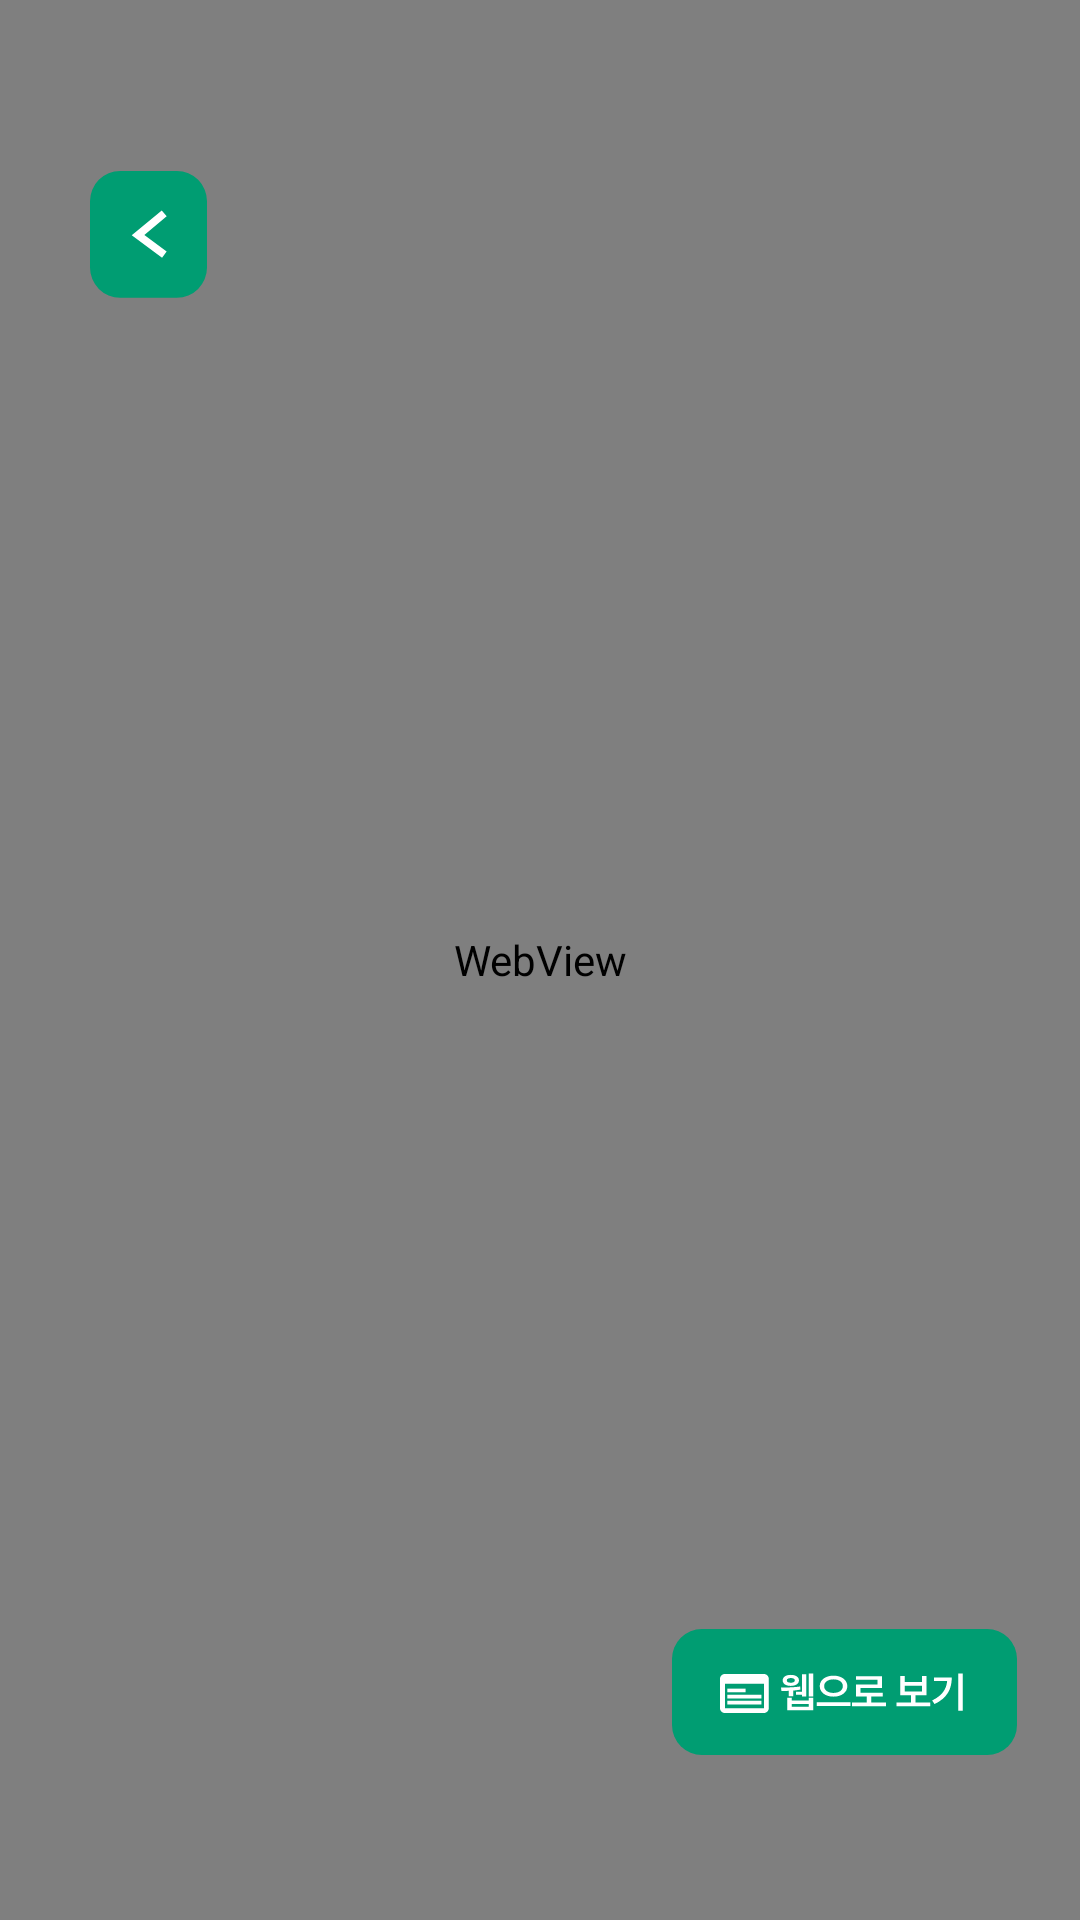

Icons on this 1080 × 1920 Android screen, each with the point to tap as (x,y):
web back: (148,234)
